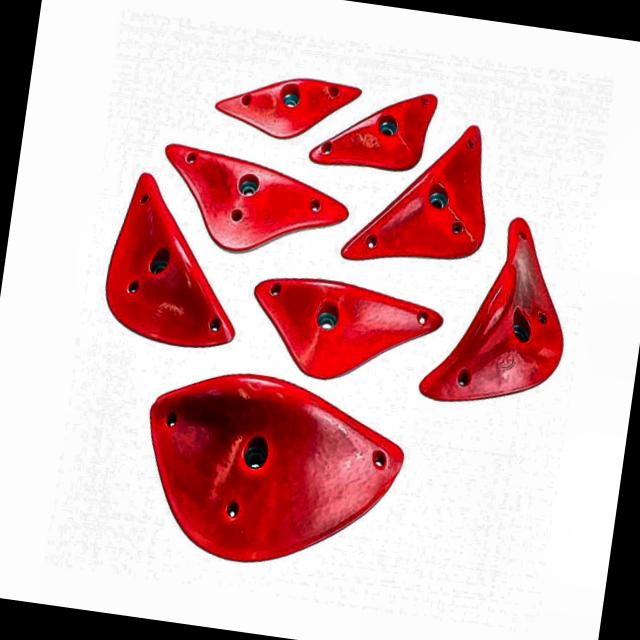Hold: (126, 364, 420, 583), (424, 208, 576, 424), (93, 168, 260, 356), (150, 140, 358, 269), (346, 112, 496, 280), (238, 276, 439, 394), (310, 76, 442, 182), (212, 66, 353, 146)
